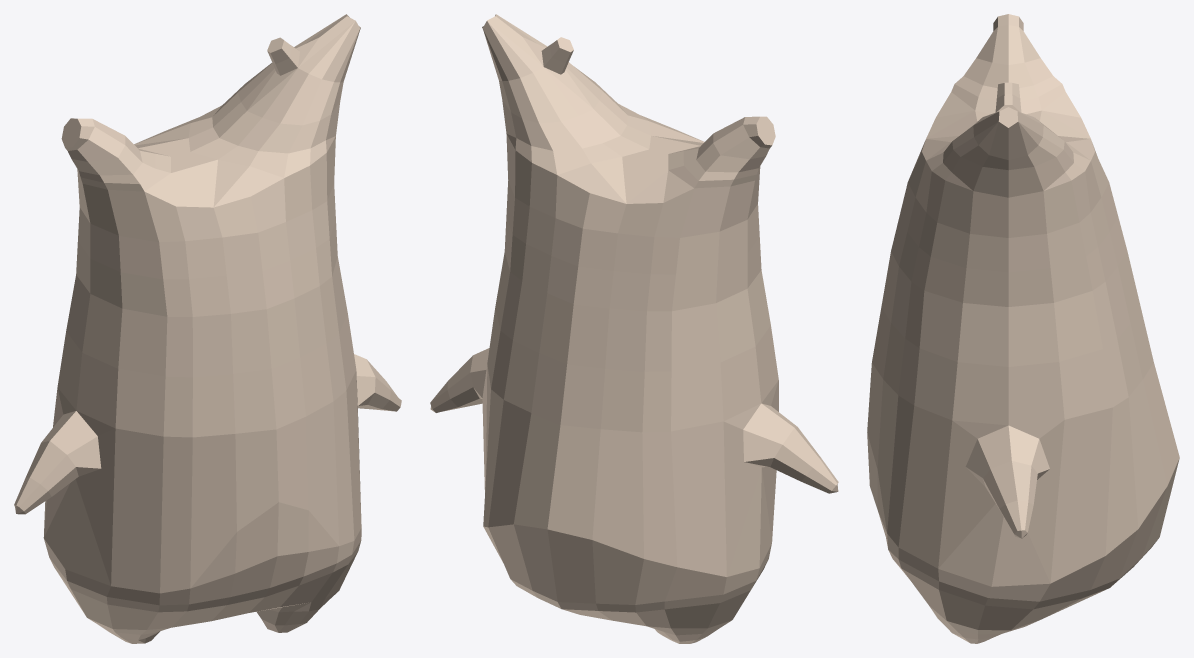
The model's file is frame_0002.obj.
The picture shows the model from 3 angles, left to right: view 1: azimuth 30°, elevation 25°; view 2: azimuth 150°, elevation 25°; view 3: azimuth 270°, elevation 25°; orthographic projection.
Visible parts, largest first — view 1: korok; view 2: korok; view 3: korok.
Part boxes in pixels (left/top/right/bottom): korok: left=14, top=14, right=401, bottom=643; korok: left=430, top=14, right=838, bottom=643; korok: left=867, top=14, right=1179, bottom=643.
Bounding box in the file's own units: 1.54 × 2.16 × 1.06.
